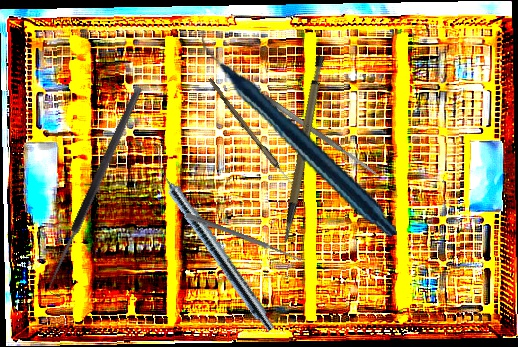Handpiece: (200, 5, 398, 261), (145, 152, 281, 335)
Hook Surgical: (43, 85, 153, 299)
Scalpel Handle: (253, 53, 350, 245)
Spatula Surgical: (262, 93, 379, 178)
Surgical Spoon: (205, 77, 306, 200), (185, 212, 305, 264)
